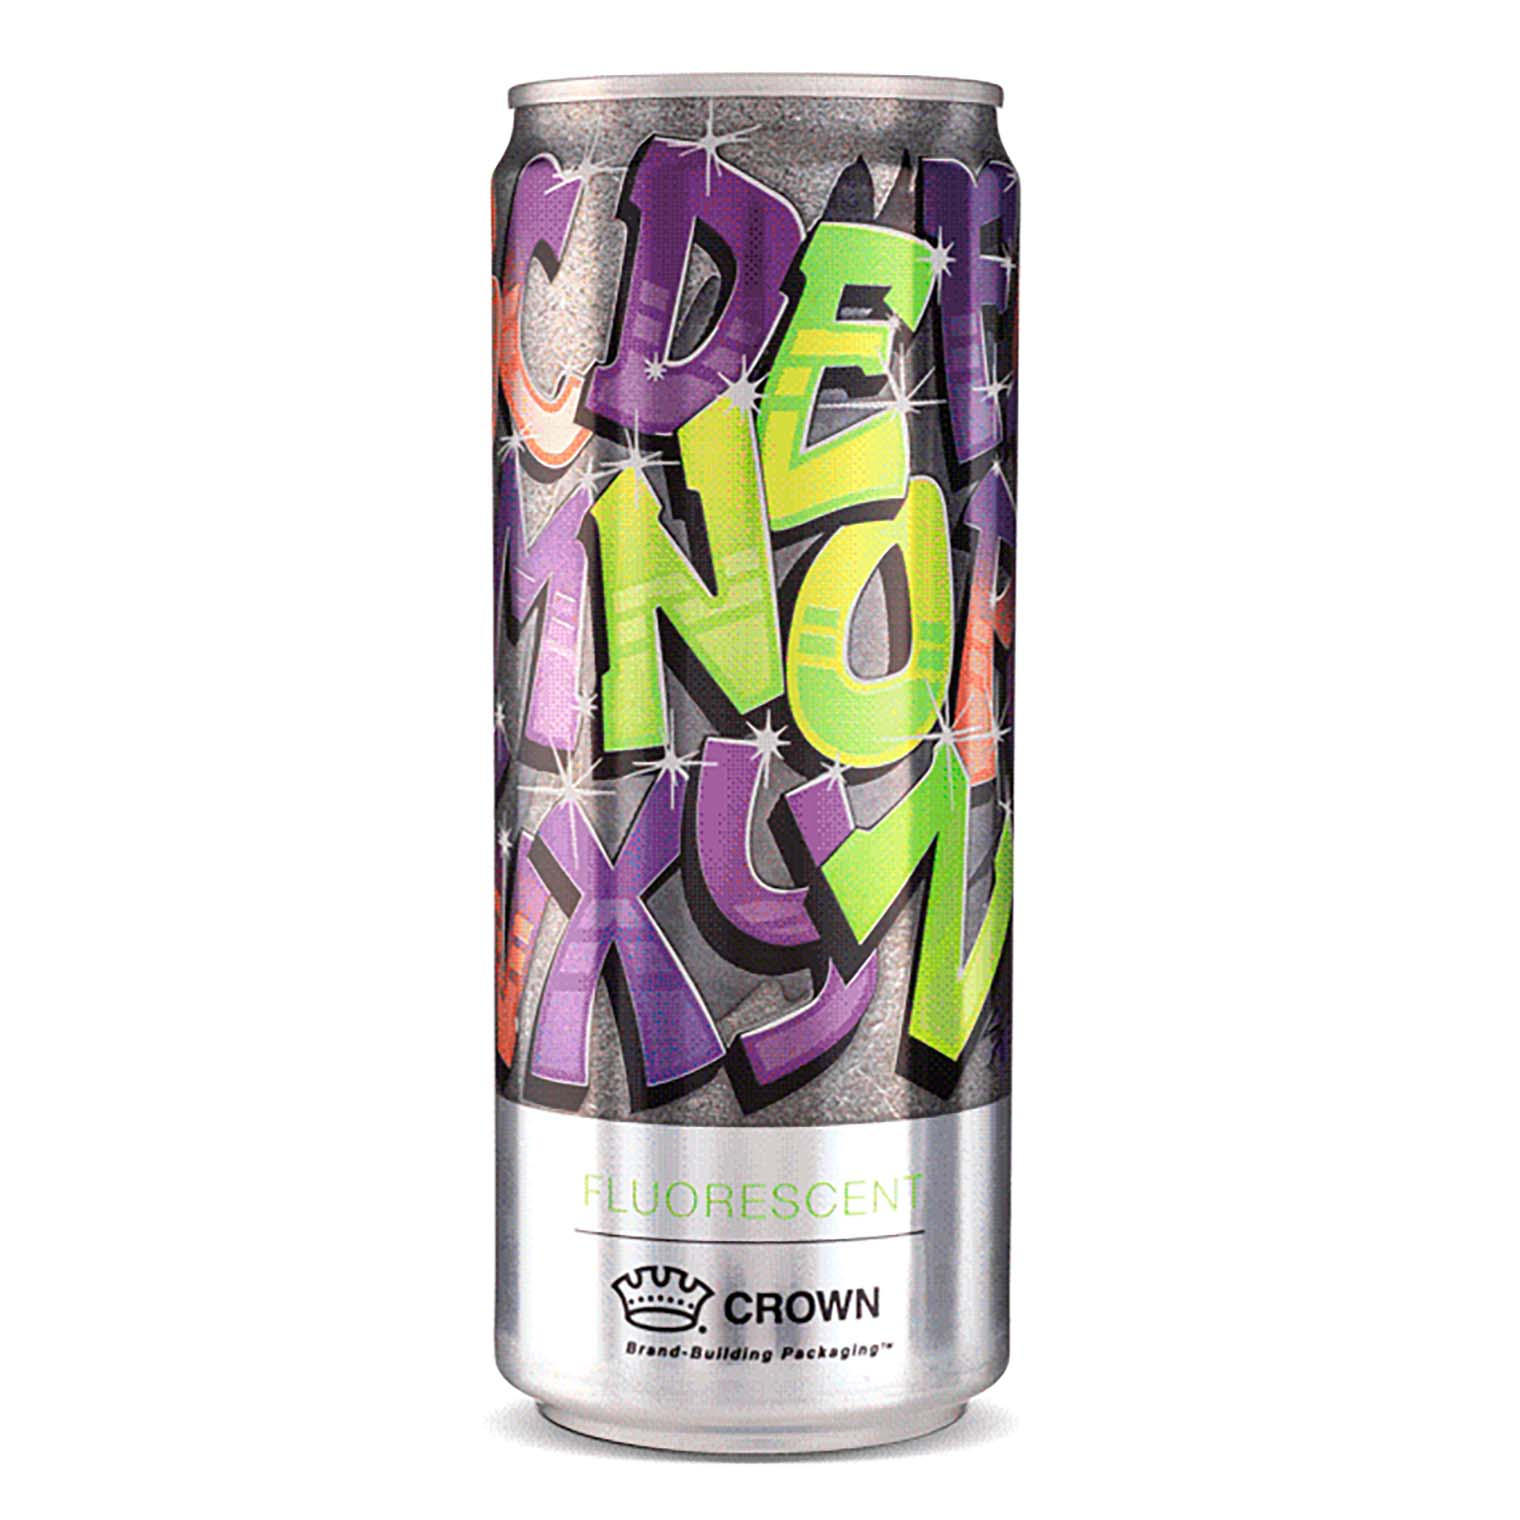can: (482, 71, 1036, 1462)
